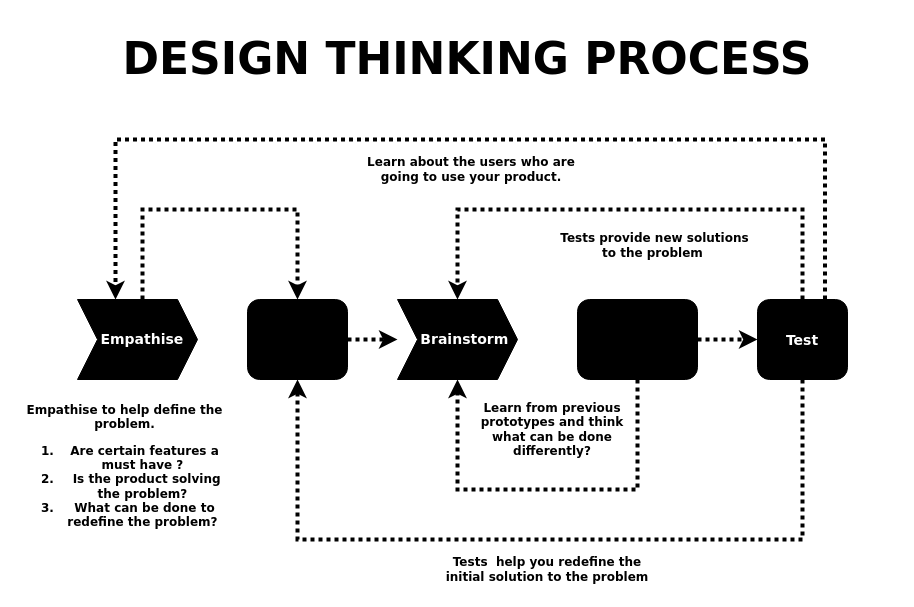
Image size: 914x607. Some labels were removed from this diagram. The centre of each missing label's shape, as x and y in pixels:
Define: pixel 297 339
Prototype: pixel 637 339
